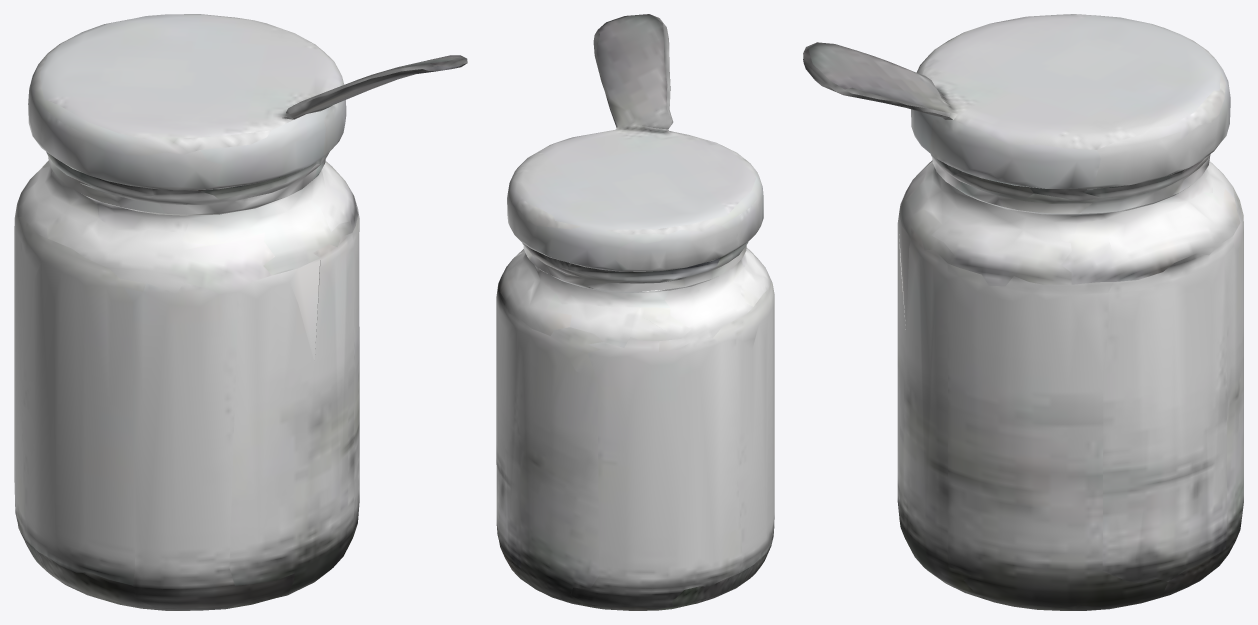
File: sugar.glb
3 renders of one model, left to right at view 1: azimuth 30°, elevation 25°; view 2: azimuth 150°, elevation 25°; view 3: azimuth 270°, elevation 25°, orthographic. The views are drawn at different scales.
Visible parts, largest first — view 1: sugar; view 2: sugar; view 3: sugar.
Boxes of the visible parts, x1,y1,x2,y2 form: sugar: (14,14,467,610); sugar: (496,14,774,610); sugar: (803,14,1243,610).
Size of the model in its own units: 0.0819 by 0.14 by 0.1005.
Materials: 1 (1 with a texture image).
